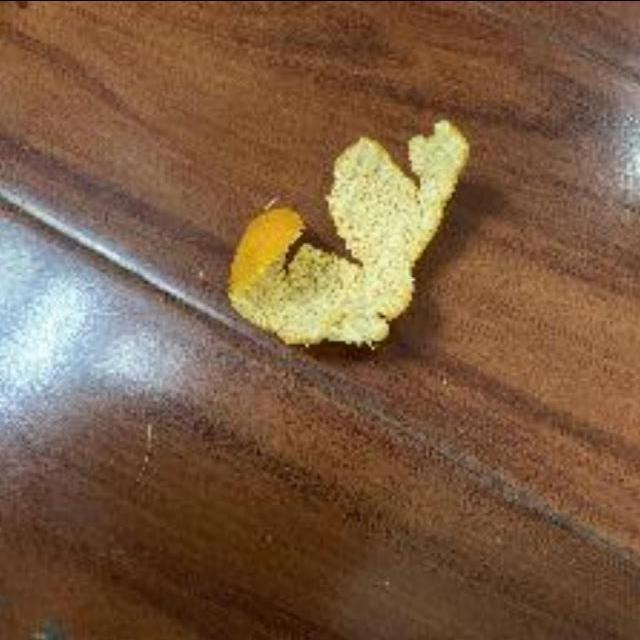orange peel: (215, 114, 473, 354)
